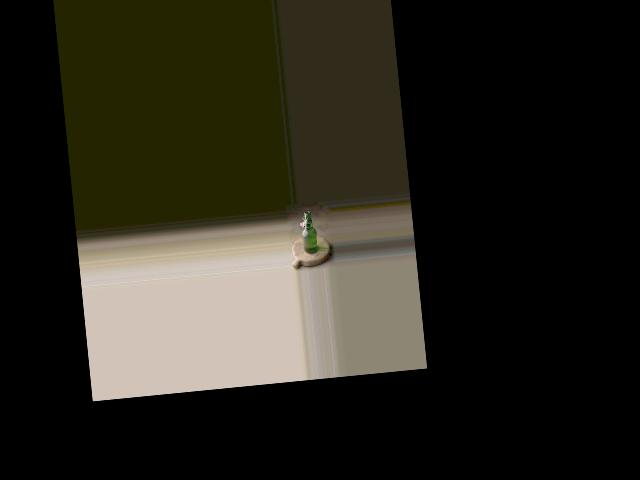beer: (299, 210, 317, 253)
